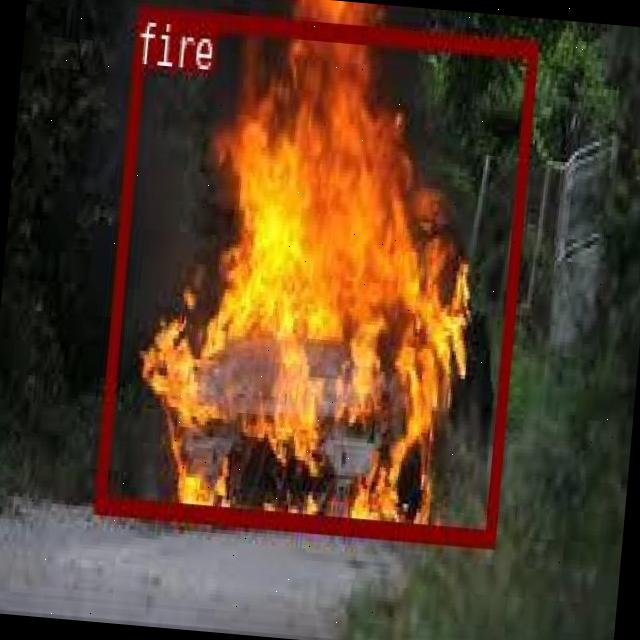fire: (92, 2, 536, 544)
